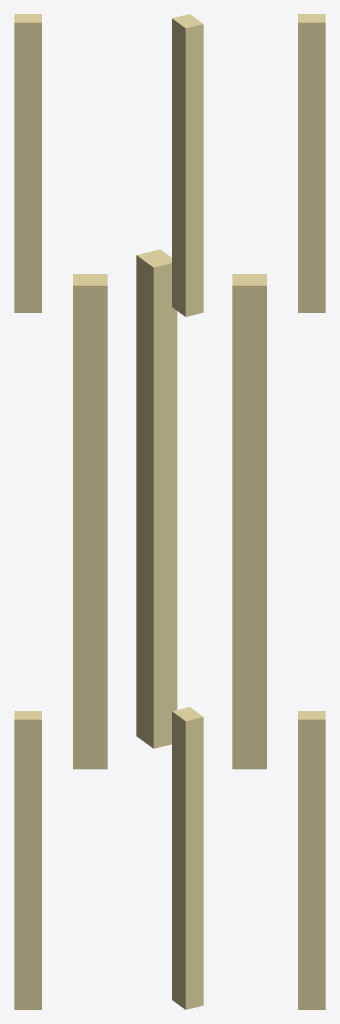
Rendered from elven_longbow.glb.
The picture shows the model from 3 angles, left to right: view 1: azimuth 90°, elevation 25°; view 2: azimuth 210°, elevation 25°; view 3: azimuth 270°, elevation 25°; orthographic projection.
Parts seen in each view (by area): view 1: elven_longbow; view 2: elven_longbow; view 3: elven_longbow.
Part boxes in pixels (x1,y1,x2,y2): elven_longbow: (14, 14, 107, 1009); elven_longbow: (136, 14, 203, 1009); elven_longbow: (232, 14, 325, 1009).
Bounding box in the file's own units: 0.04 × 1.58 × 0.135.
